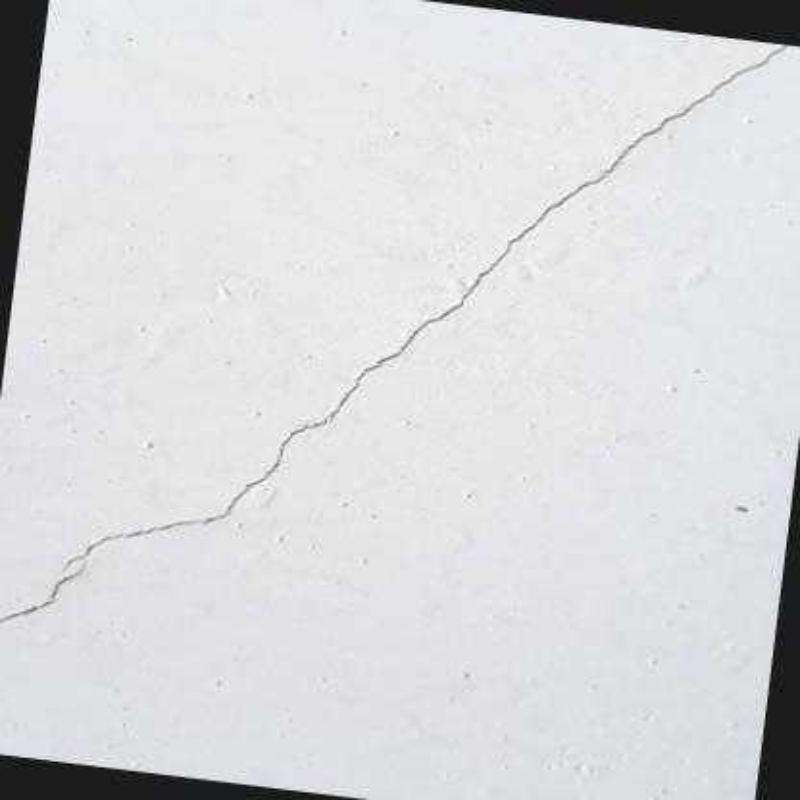crack: (58, 46, 786, 575), (1, 564, 85, 623)
